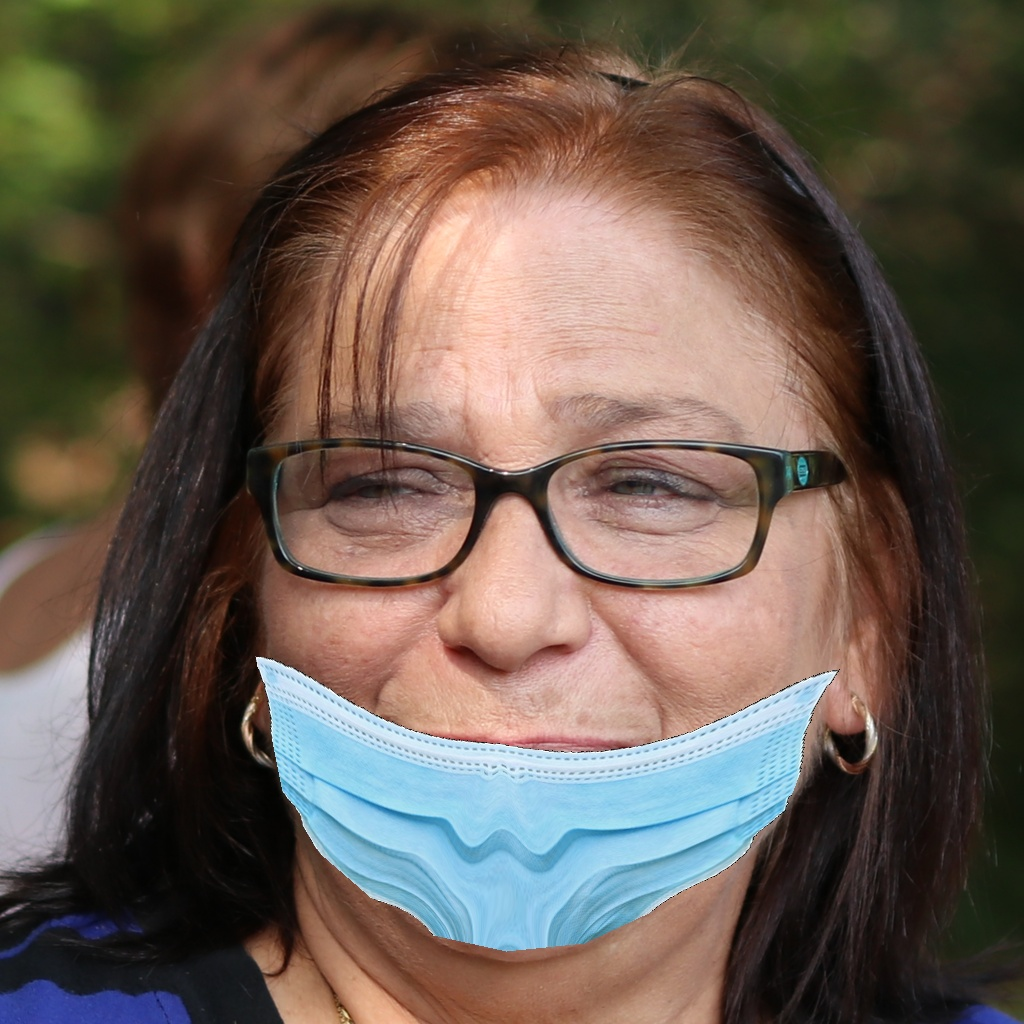mascarilla_mal_puesta: (232, 373, 832, 963)
